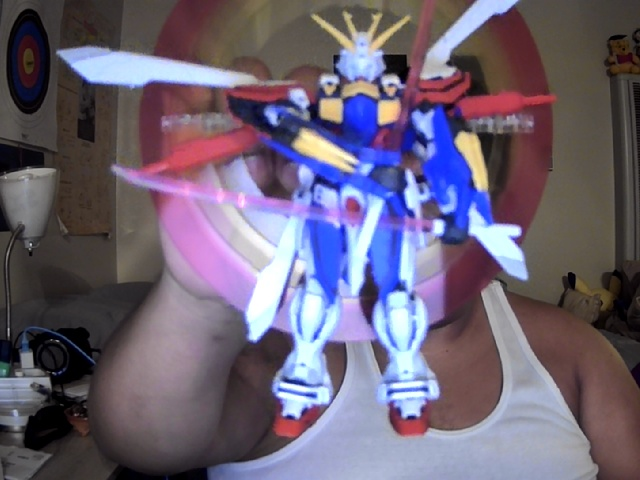God: (53, 3, 556, 440)
